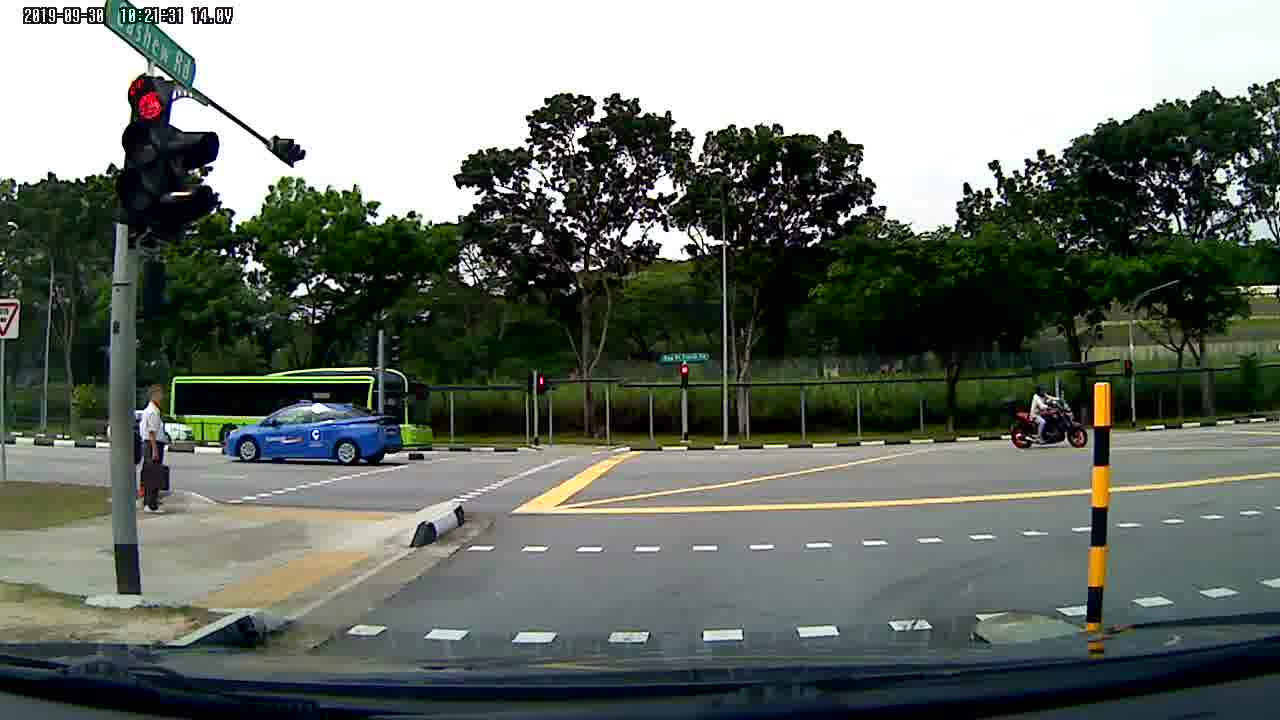bus: (168, 361, 438, 465)
car: (221, 400, 405, 474), (160, 417, 195, 444)
